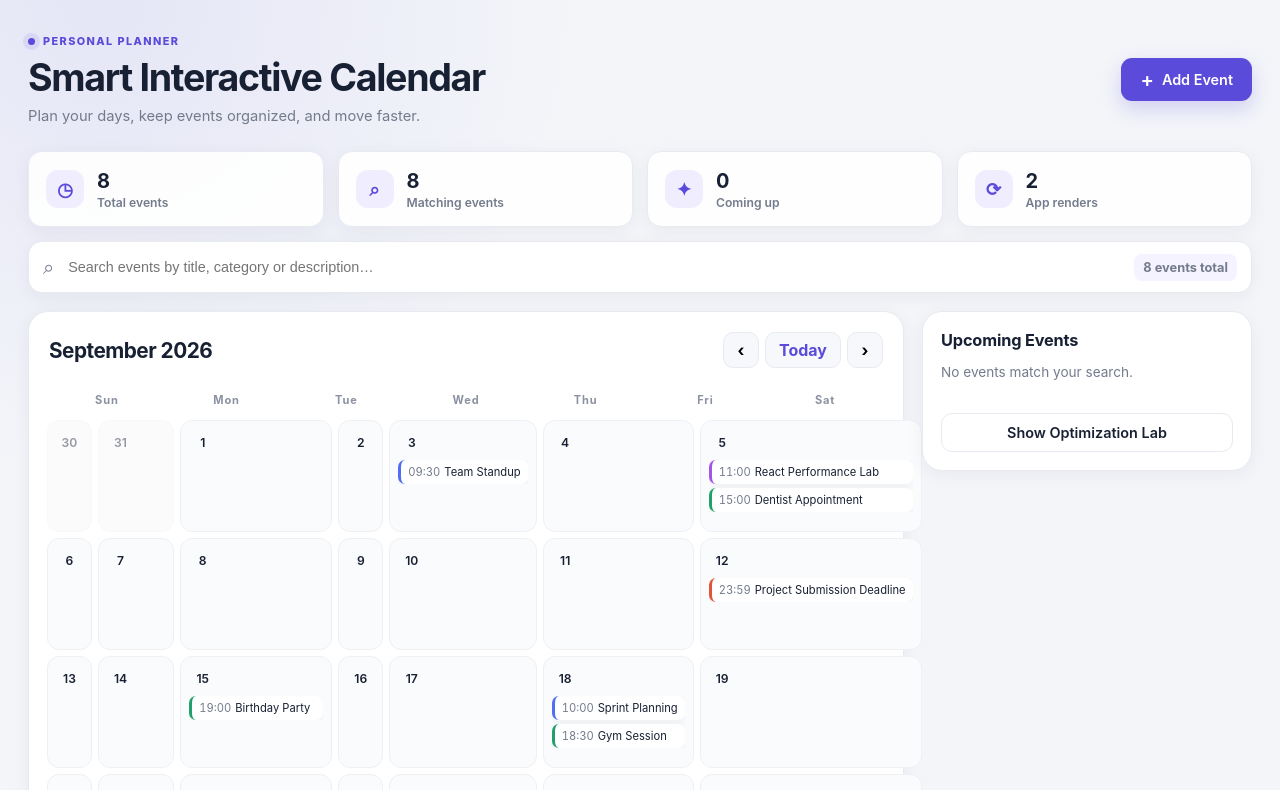
Scenario: Event interaction › lets the user click an event and see its details
What coordinates should you click on to do the following:
click the text "Team Standup"
I would click on:
 (482, 472)
Its box is [444, 465, 521, 479].
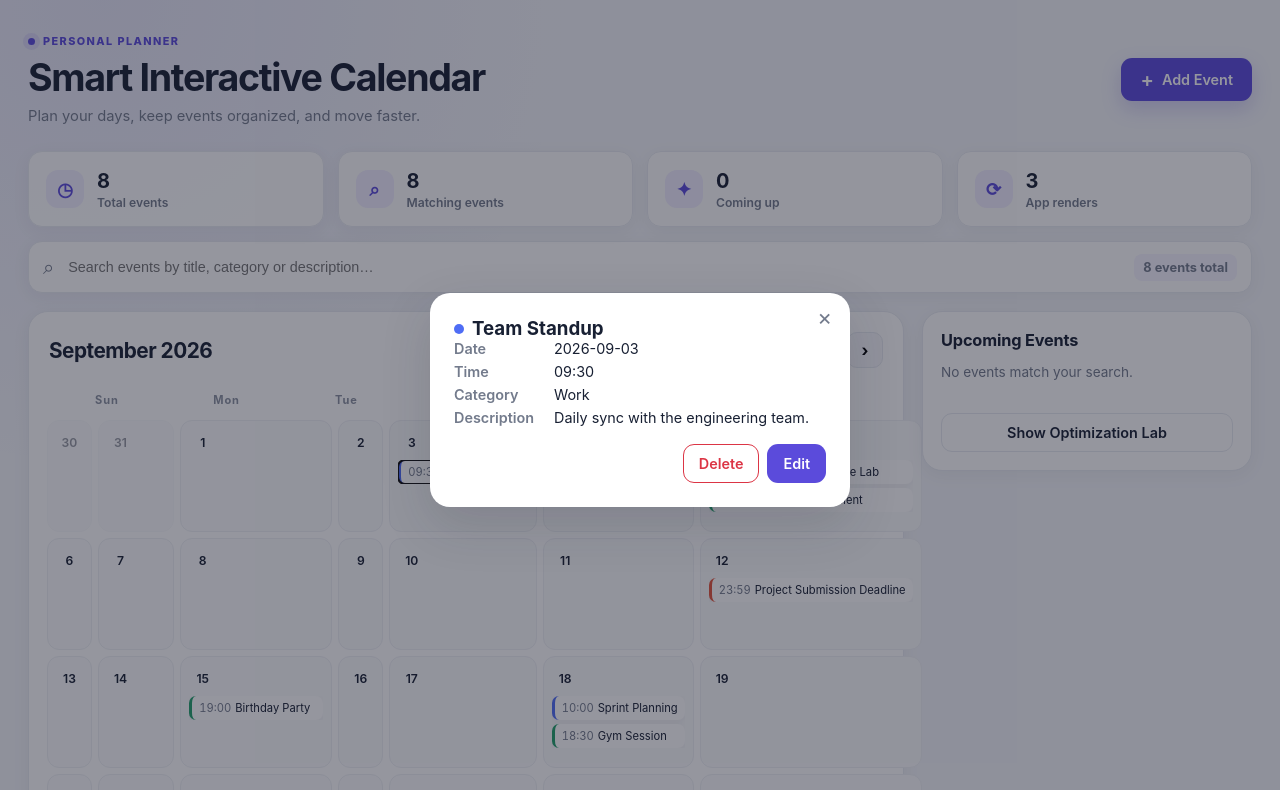
expect the dialog is shown: met, box [430, 293, 850, 507]
expect the heading "Team Standup" is shown: met, box [472, 317, 604, 340]
expect the text "09:30" is shown: met, box [554, 363, 594, 380]
